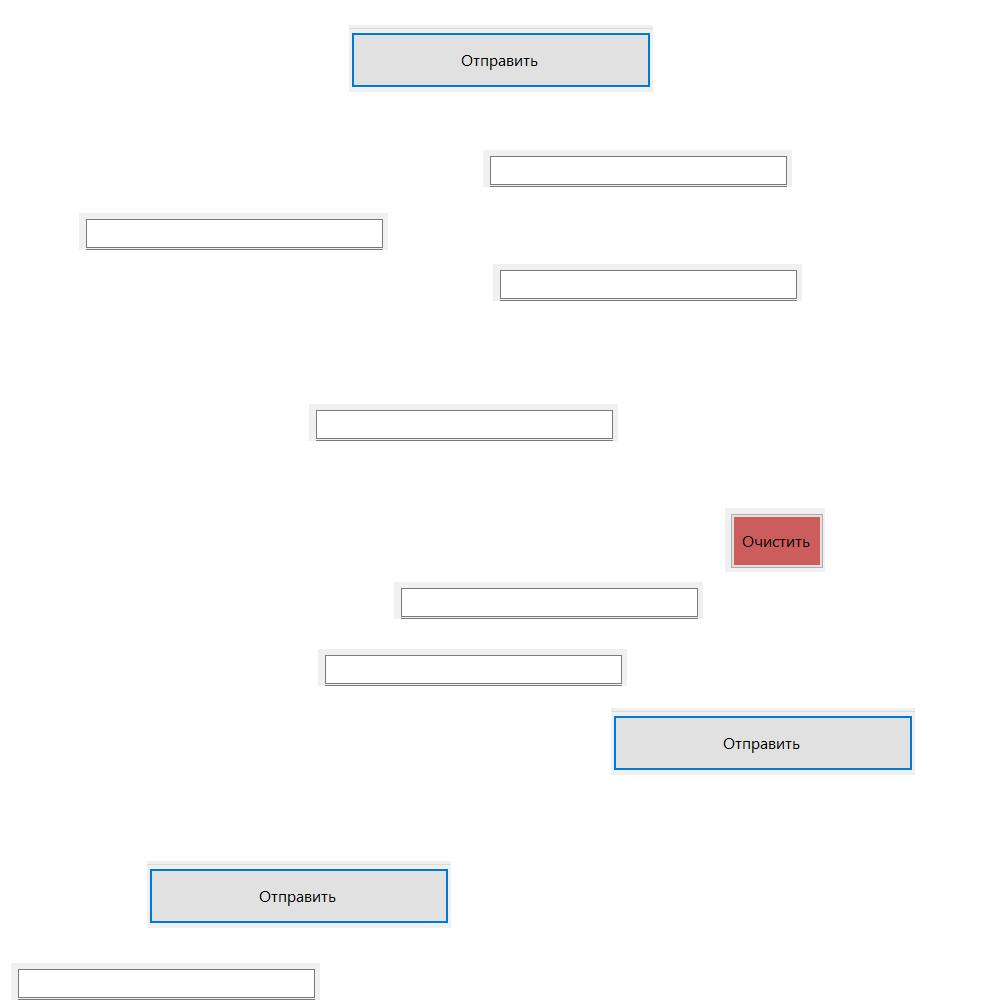Button: (611, 708, 915, 775), (147, 861, 451, 928), (349, 25, 653, 92), (725, 508, 825, 572)
EditText-: (11, 963, 320, 1000), (309, 404, 618, 441), (79, 213, 388, 250), (318, 649, 627, 686), (394, 582, 703, 619), (493, 264, 802, 301), (483, 150, 792, 187)
